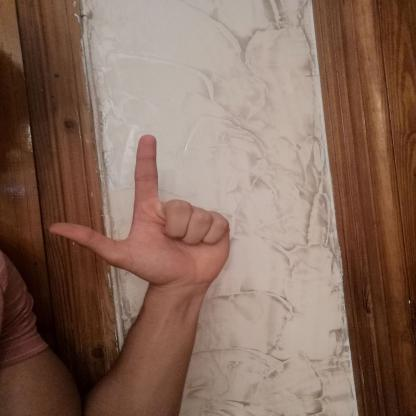LAAM: (32, 125, 243, 300)
